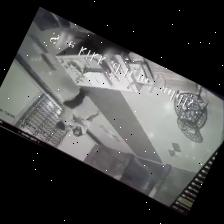person: (56, 88, 88, 129), (73, 110, 100, 136)
